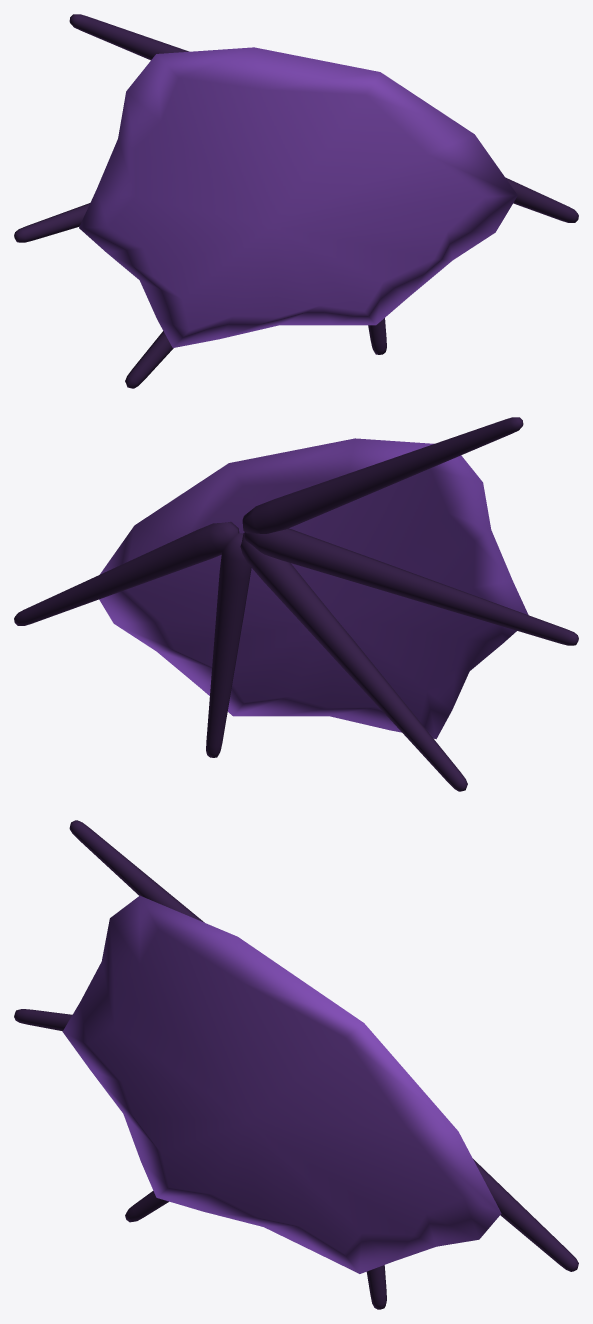
The model's file is one_wing.glb.
3 renders of one model, top to bottom at view 1: azimuth 30°, elevation 25°; view 2: azimuth 150°, elevation 25°; view 3: azimuth 330°, elevation 25°, orthographic.
Parts seen in each view (by area): view 1: one_wing; view 2: one_wing; view 3: one_wing.
Boxes of the visible parts, x1,y1,x2,y2 form: one_wing: [14, 14, 578, 388]; one_wing: [14, 417, 578, 791]; one_wing: [14, 820, 578, 1309].
Size of the model in its own units: 0.3989 by 0.2805 by 0.0246.
